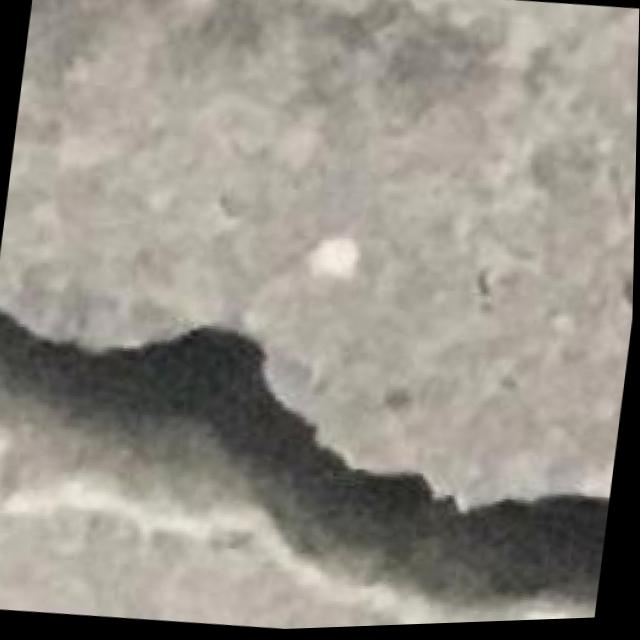Crack: (0, 275, 632, 640)
